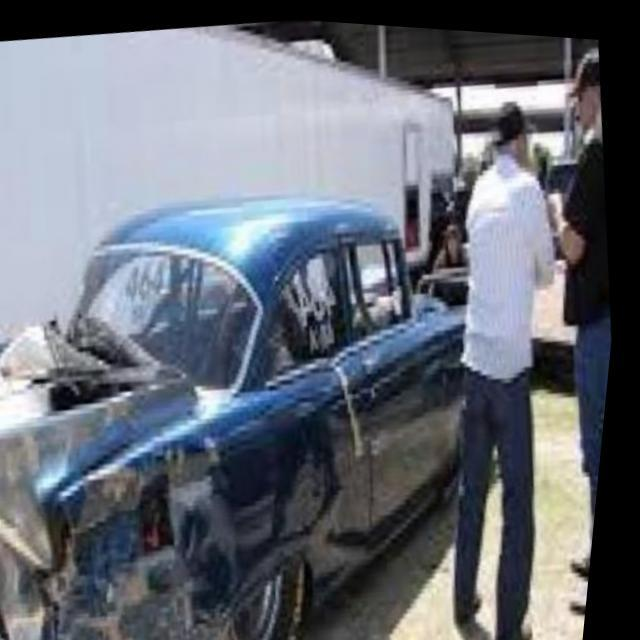crash: (0, 312, 245, 640)
